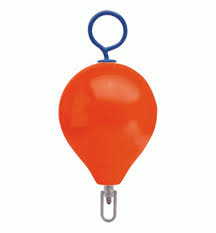buoy: (58, 63, 157, 186)
